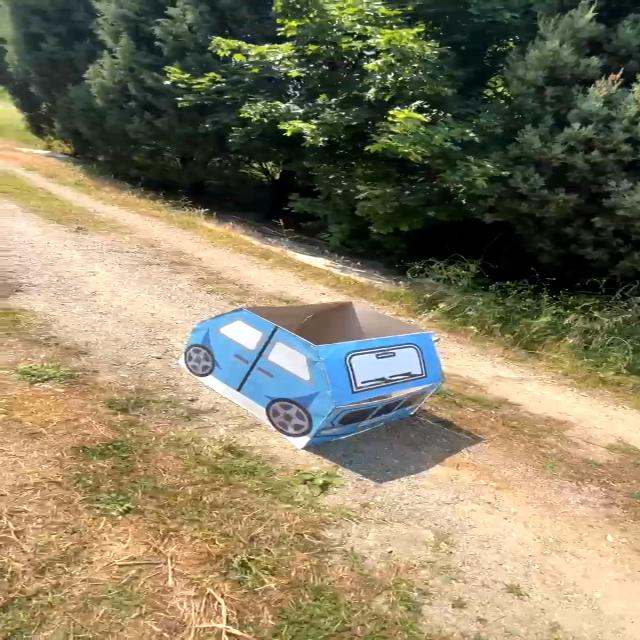blue_car: (162, 284, 448, 454)
